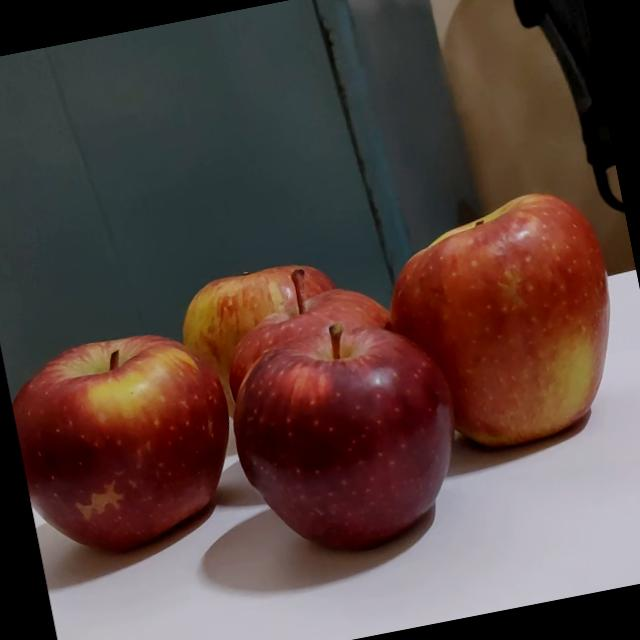apple: (388, 188, 638, 460), (3, 320, 272, 572), (234, 307, 483, 563), (225, 254, 430, 490), (177, 250, 360, 452)
